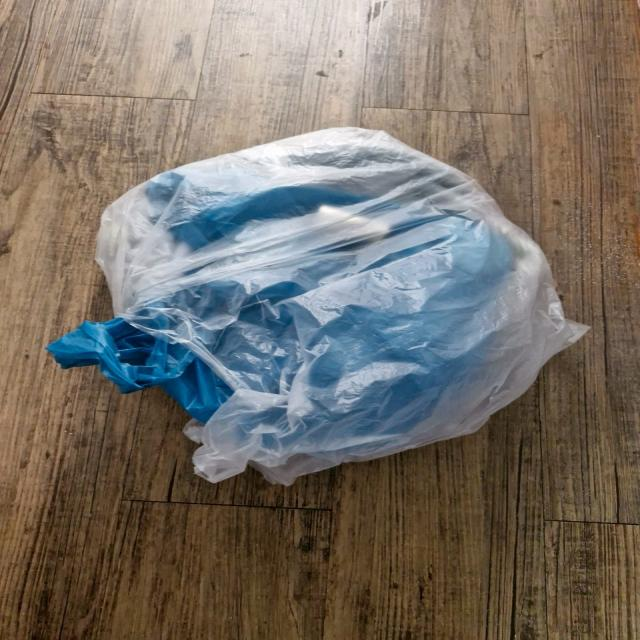plastic bag: (36, 124, 594, 488)
